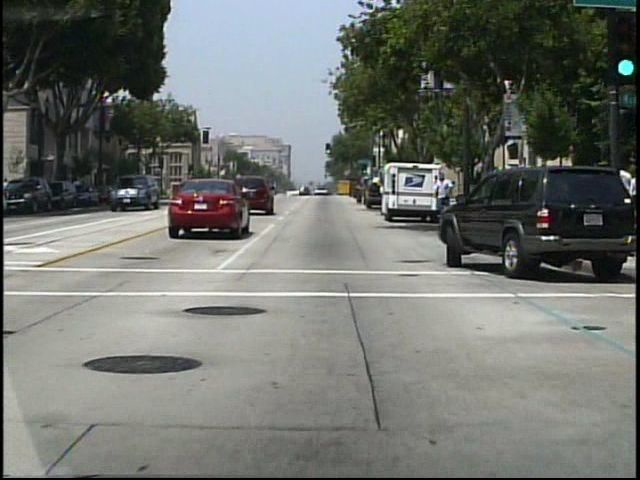person: (429, 171, 455, 227), (352, 176, 369, 208), (2, 177, 13, 205)
